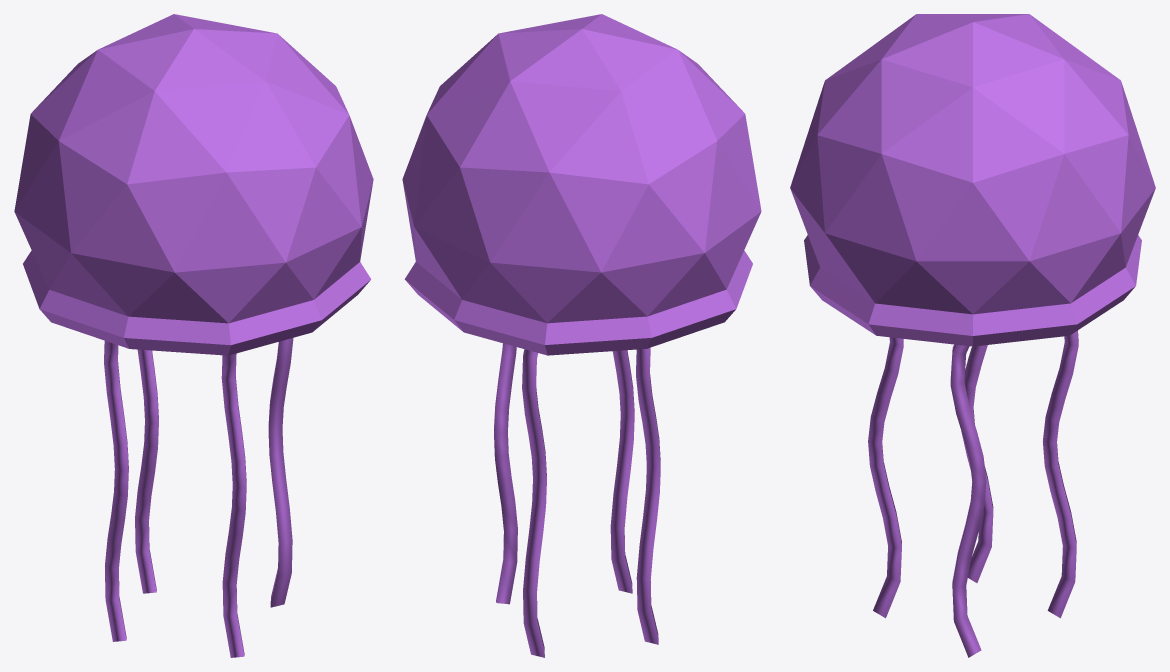
The model's file is jellyfish-Bd7INzwD.glb.
3 renders of one model, left to right at view 1: azimuth 30°, elevation 25°; view 2: azimuth 150°, elevation 25°; view 3: azimuth 270°, elevation 25°, orthographic.
Visible parts, largest first — view 1: jellyfish; view 2: jellyfish; view 3: jellyfish.
Part boxes in pixels (x1,y1,x2,y2): jellyfish: (14, 14, 373, 657); jellyfish: (402, 14, 761, 657); jellyfish: (790, 14, 1155, 657).
Bounding box in the file's own units: 1.92 × 3.58 × 2.
